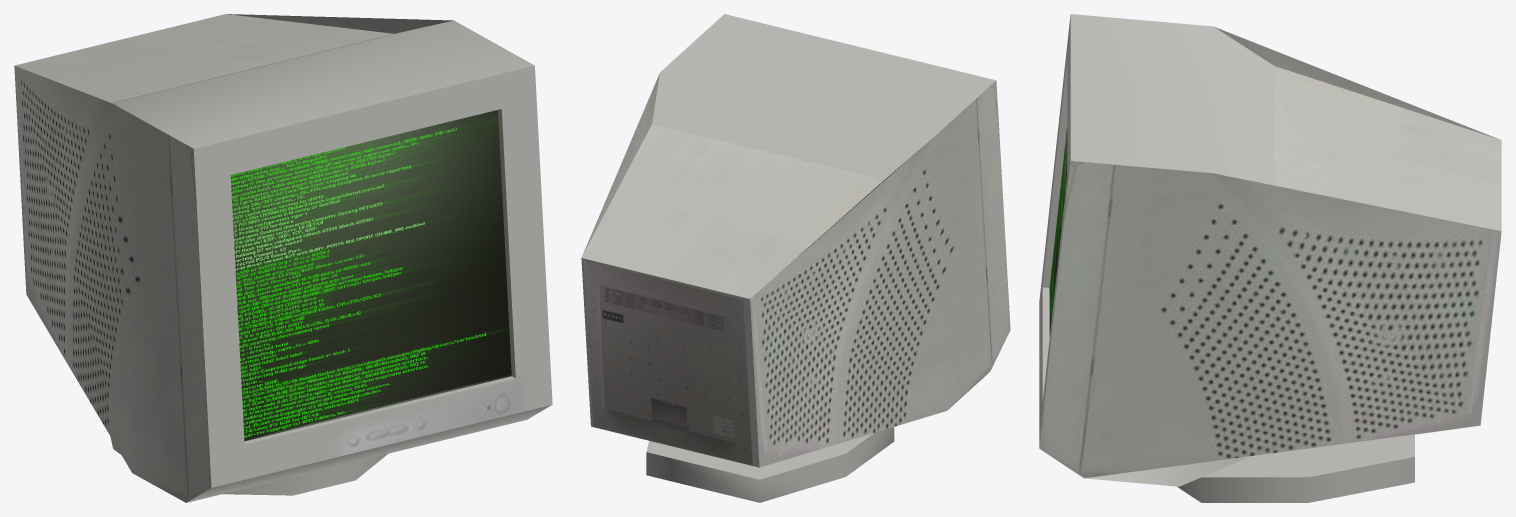
File: monitor fat_lod3.fbx
3 renders of one model, left to right at view 1: azimuth 30°, elevation 25°; view 2: azimuth 150°, elevation 25°; view 3: azimuth 270°, elevation 25°, orthographic. The views are drawn at different scales.
Visible parts, largest first — view 1: polySurface2, screen; view 2: polySurface2; view 3: polySurface2, screen.
Boxes of the visible parts, box(x1,y1,x2,y2) form: polySurface2: box(14, 14, 552, 502); screen: box(230, 110, 511, 441); polySurface2: box(581, 14, 1010, 502); polySurface2: box(1039, 14, 1501, 502); screen: box(1049, 127, 1067, 336).
Size of the model in its own units: 2 by 2.31 by 2.66.
